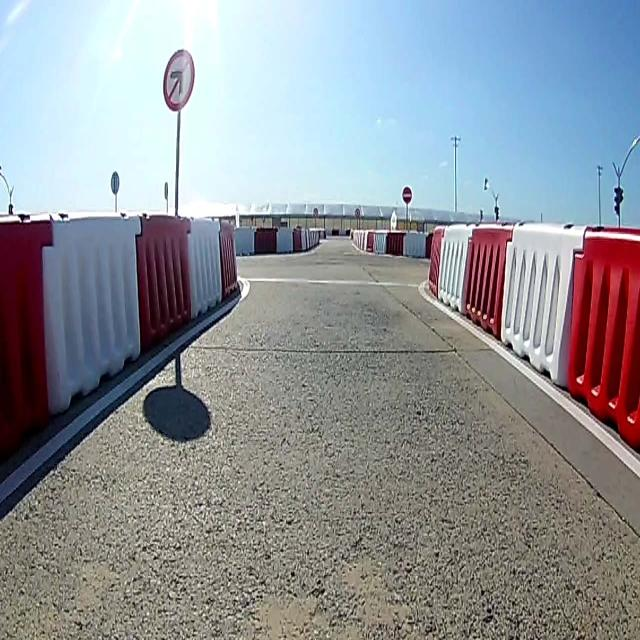girisyok: (402, 183, 414, 205)
soladonulmez: (162, 51, 195, 108)
